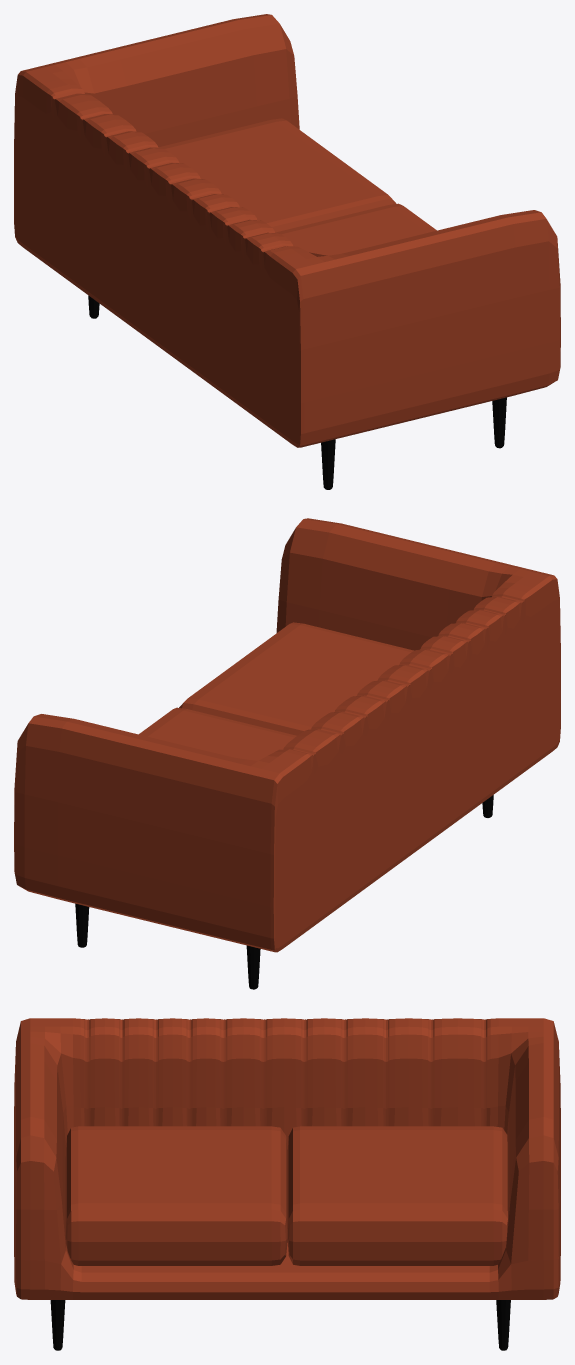
Rendered from sofa.fbx.
3 views of the same model, one above another, from view 1: azimuth 30°, elevation 25°; view 2: azimuth 150°, elevation 25°; view 3: azimuth 270°, elevation 25° (orthographic). The views are drawn at different scales.
Visible parts, largest first — view 1: Cylinder.002; view 2: Cylinder.002; view 3: Cylinder.002.
Boxes of the visible parts, x1=… form: Cylinder.002: x1=14, y1=14, x2=560, y2=489; Cylinder.002: x1=14, y1=518, x2=560, y2=989; Cylinder.002: x1=14, y1=1018, x2=560, y2=1350.
Bounding box in the file's own units: 321 × 280 × 603.
